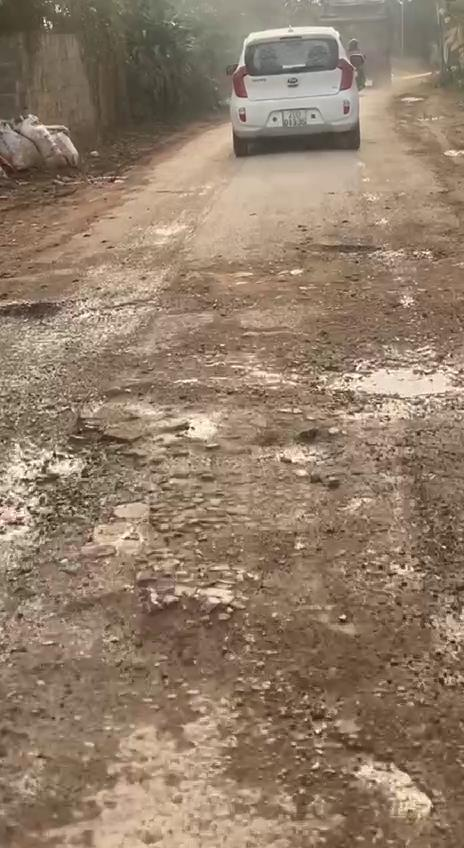pothole: (0, 400, 170, 604), (289, 352, 464, 414)
